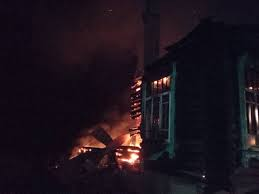fire: (83, 70, 169, 164)
